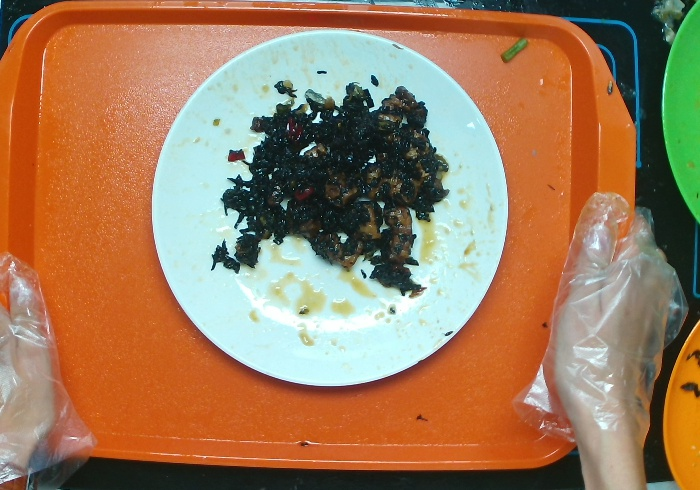HZYJPL-Bai_Se_Yuan_Pan: (146, 28, 512, 395)
